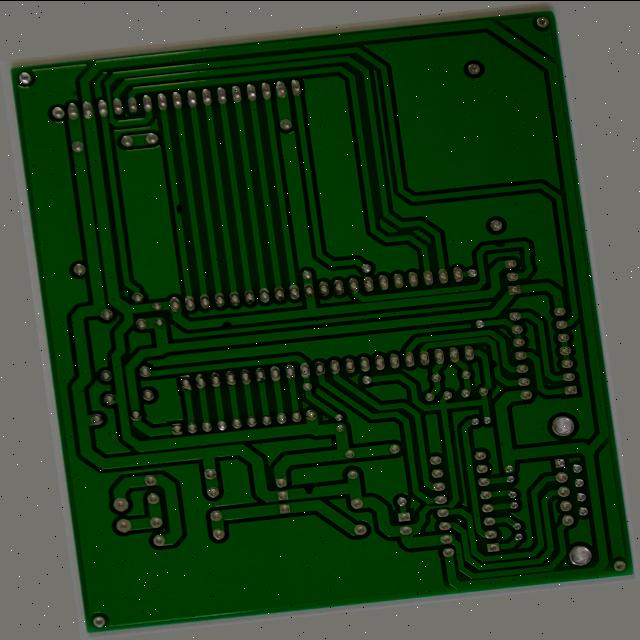mouse_bite: (170, 171, 184, 192), (270, 498, 293, 510), (203, 306, 226, 317), (525, 255, 546, 264), (505, 378, 516, 395)
